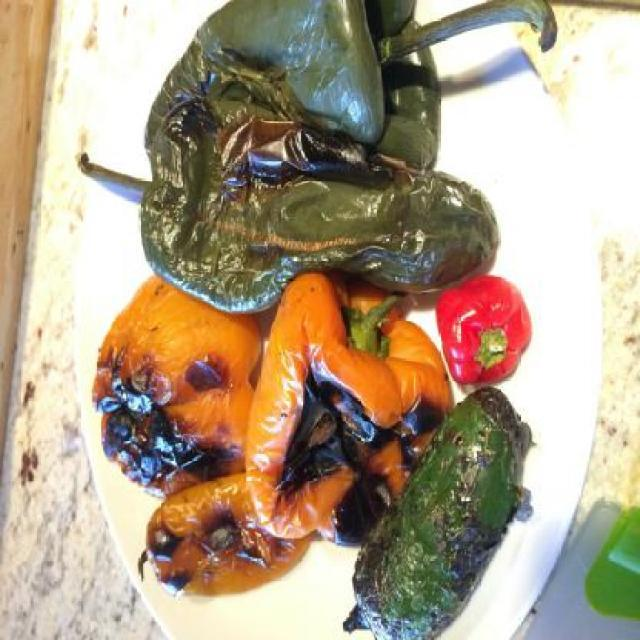Bell pepper: (75, 0, 556, 638)
